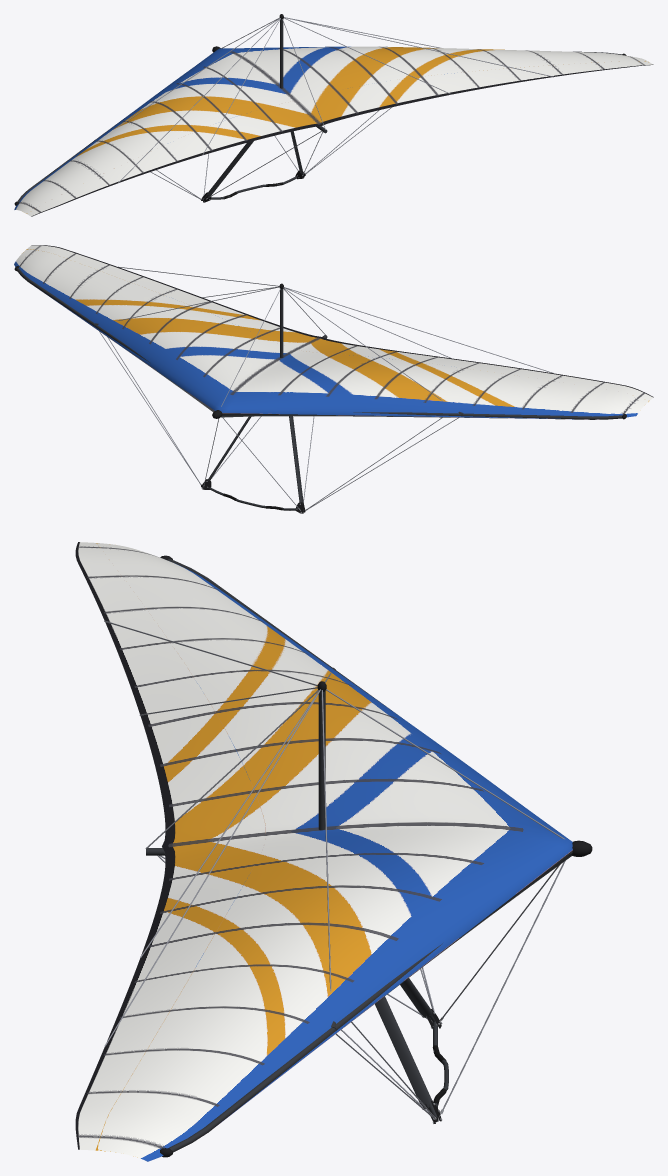
The model's file is glider_air_sting3.glb.
3 views of the same model, one above another, from view 1: azimuth 30°, elevation 25°; view 2: azimuth 150°, elevation 25°; view 3: azimuth 270°, elevation 25° (orthographic). The views are drawn at different scales.
Visible parts, largest first — view 1: Sail, Frame, ControlFrame; view 2: Sail, Frame, ControlFrame; view 3: Sail, Frame, ControlFrame.
Boxes of the visible parts, box(x1,y1,x2,y2) form: Sail: box(14, 46, 653, 216); Frame: box(14, 14, 626, 205); ControlFrame: box(150, 107, 391, 202); Sail: box(14, 245, 653, 419); Frame: box(14, 266, 626, 419); ControlFrame: box(99, 331, 458, 513); Sail: box(75, 542, 572, 1161); Frame: box(104, 555, 592, 1157); ControlFrame: box(157, 855, 565, 1123).
Bounding box in the file's own units: 9.1 × 2.78 × 3.27.
Materials: 8 (1 with a texture image).
